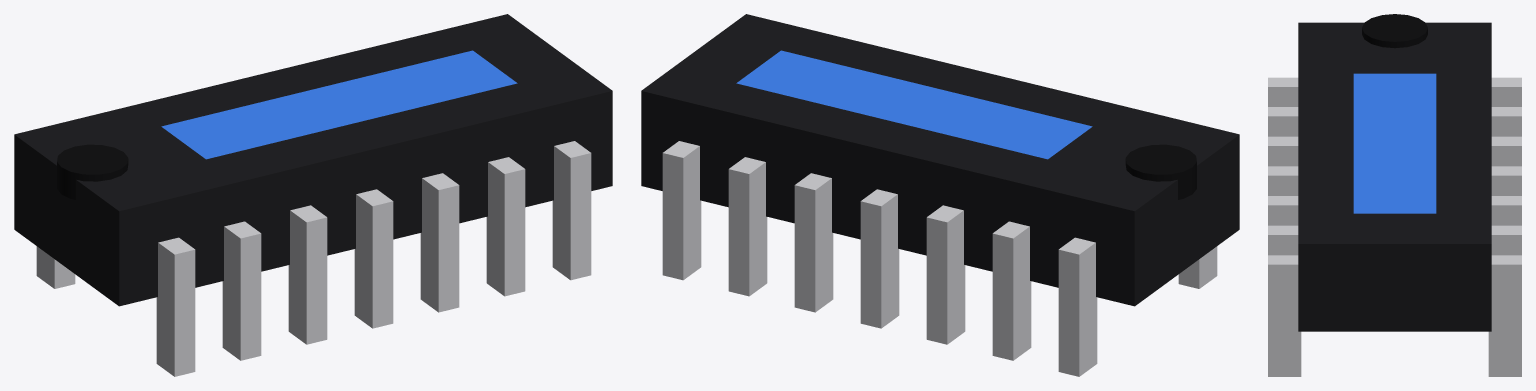
3 views of the same model, side by side, from view 1: azimuth 30°, elevation 25°; view 2: azimuth 150°, elevation 25°; view 3: azimuth 270°, elevation 25° (orthographic). The views are drawn at different scales.
Size of the model in its own units: 0.192 by 0.0625 by 0.092.
